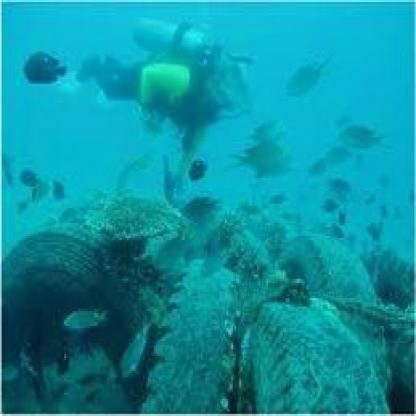tire: (5, 216, 172, 364), (244, 285, 416, 416), (156, 264, 260, 416), (114, 171, 259, 266), (283, 214, 376, 356)
